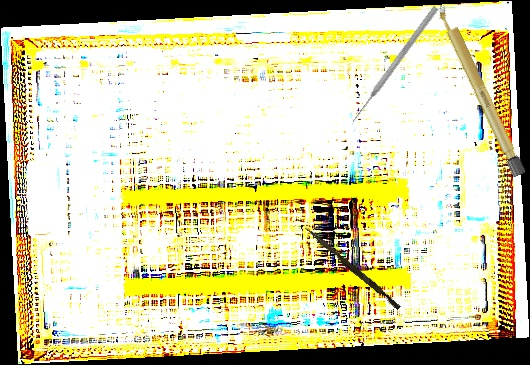Pusher: (349, 4, 440, 125), (301, 225, 403, 311)
Scalpel Handle: (434, 2, 527, 178)
